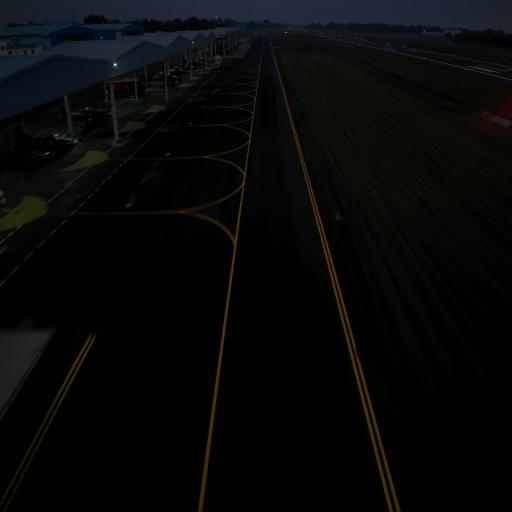on: (335, 208, 341, 219)
